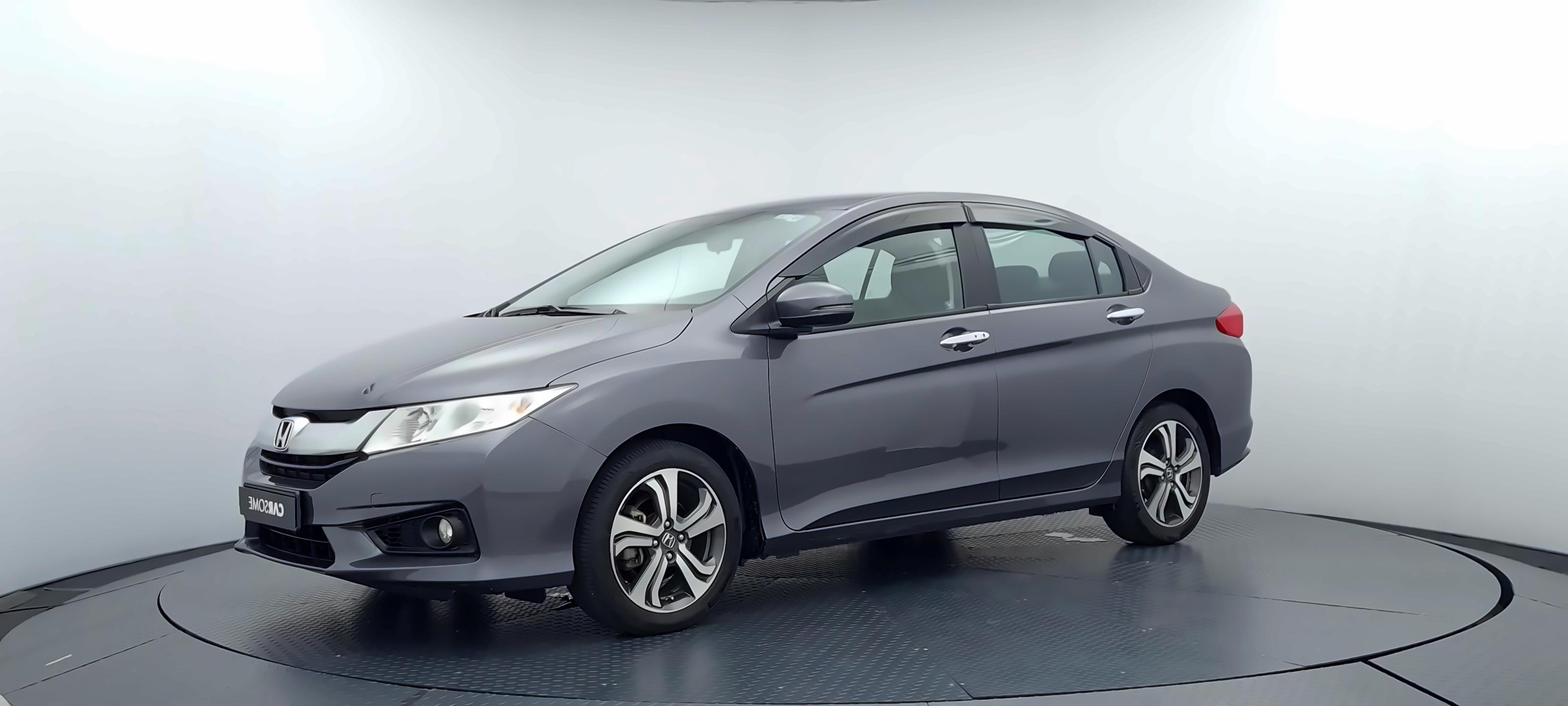Car hood: (267, 303, 695, 414)
Fender - -F-L-: (525, 291, 780, 556)
Fender - -R-L-: (1112, 270, 1243, 511)
Front bumper: (228, 447, 591, 598)
Headlight - -L-: (360, 381, 583, 459)
Passenger-s door - -F-L-: (769, 197, 998, 532)
Passenger-s door - -R-L-: (997, 199, 1159, 504)
Rear bumper: (1202, 389, 1273, 491)
Rear light - -L-: (1197, 283, 1257, 349)
Side bumper - -L-: (745, 462, 1136, 562)
Side mirror - -L-: (760, 276, 865, 343)
